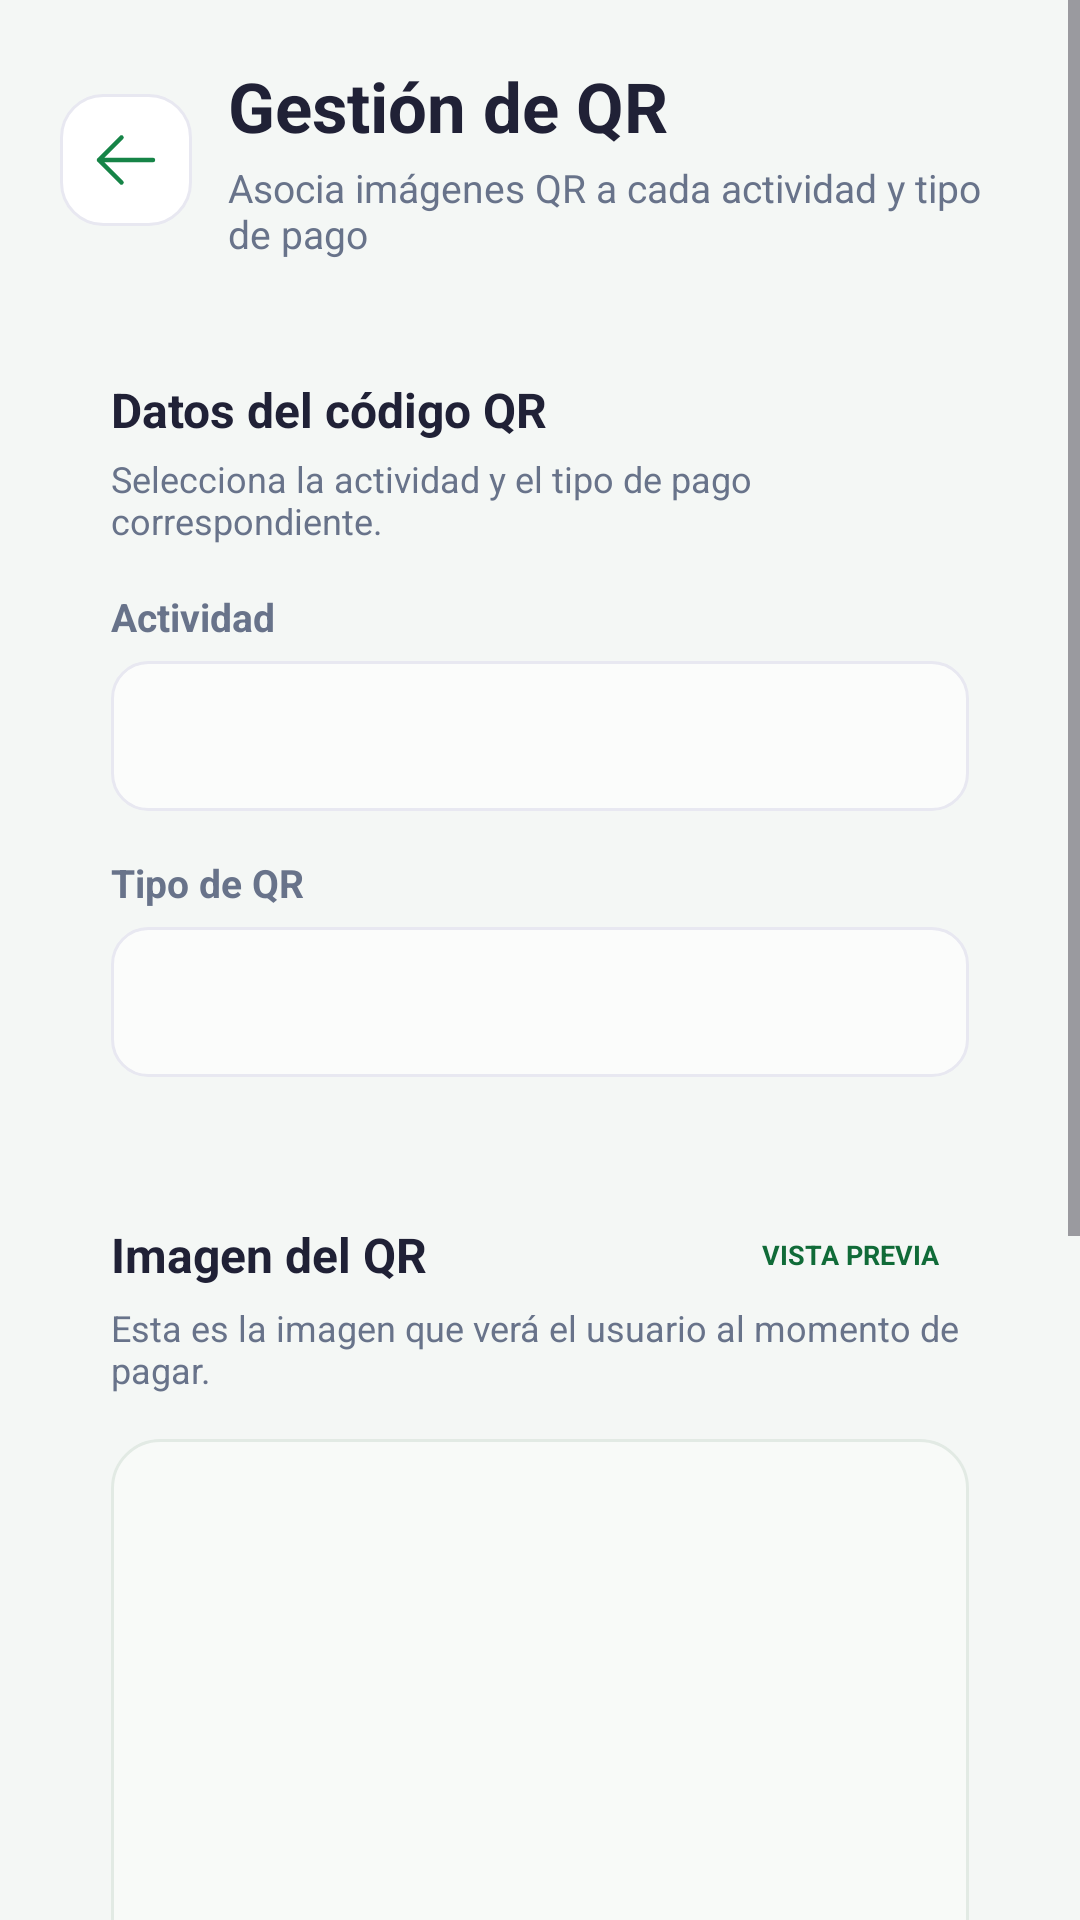

Icons on this 1080*1920 Android screen, each with the point to tap as point (x, y):
Volver: point (126, 160)
